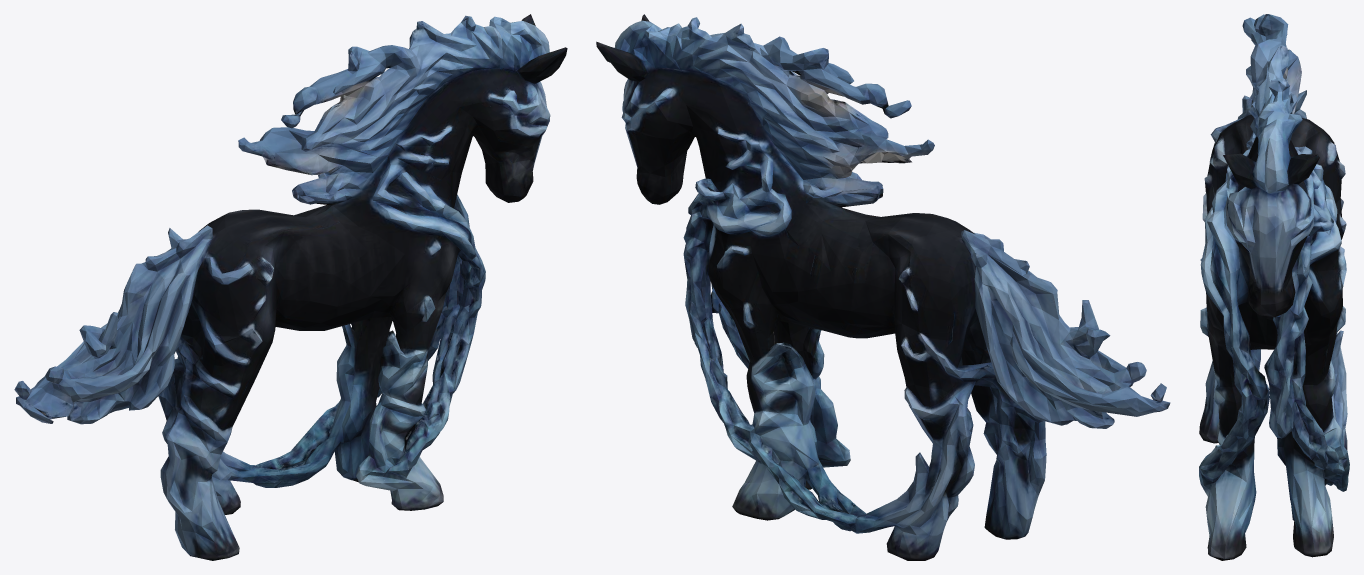
The model's file is mothmara__nightmareCharger.glb.
3 views of the same model, side by side, from view 1: azimuth 30°, elevation 25°; view 2: azimuth 150°, elevation 25°; view 3: azimuth 270°, elevation 25° (orthographic). The views are drawn at different scales.
Parts seen in each view (by area): view 1: world; view 2: world; view 3: world.
Part boxes in pixels (left/top/right/bottom): world: left=14, top=14, right=567, bottom=560; world: left=596, top=14, right=1170, bottom=560; world: left=1199, top=14, right=1349, bottom=560.
Size of the model in its own units: 1 by 0.8172 by 0.2156.
Materials: 1 (1 with a texture image).
